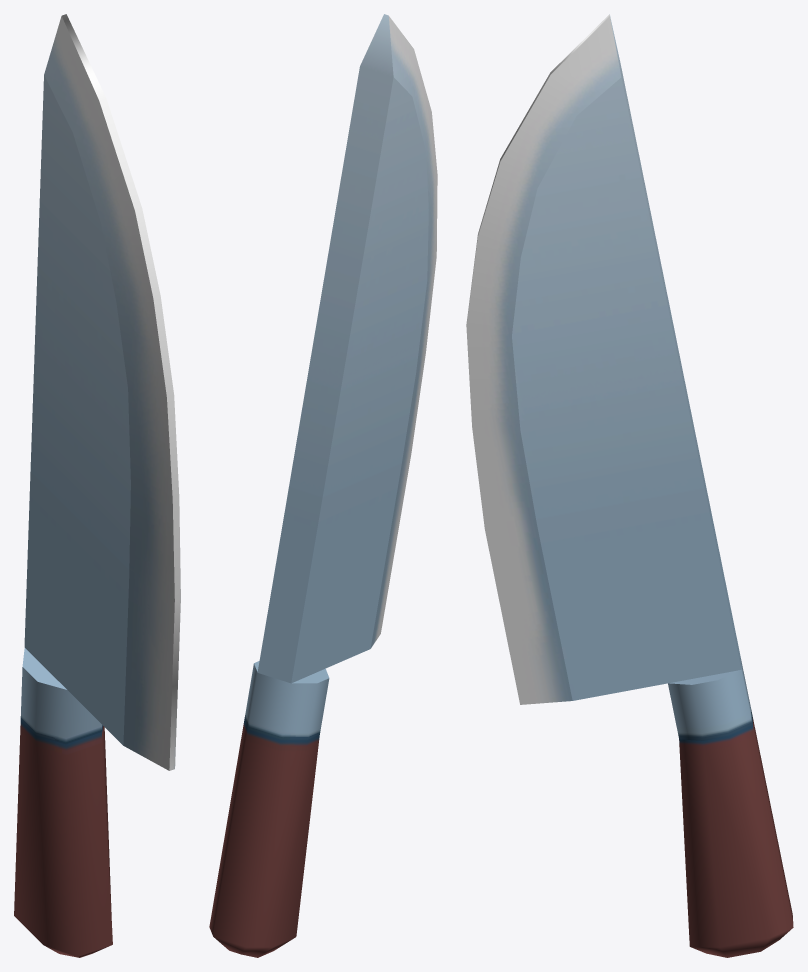
Rendered from Knife.fbx.
3 renders of one model, left to right at view 1: azimuth 30°, elevation 25°; view 2: azimuth 150°, elevation 25°; view 3: azimuth 270°, elevation 25°, orthographic. The views are drawn at different scales.
Parts seen in each view (by area): view 1: Knife; view 2: Knife; view 3: Knife.
Boxes of the visible parts, x1,y1,x2,y2 form: Knife: (14, 14, 180, 957); Knife: (209, 14, 437, 957); Knife: (466, 14, 793, 957).
Size of the model in its own units: 0.1733 by 1.35 by 0.4426.
